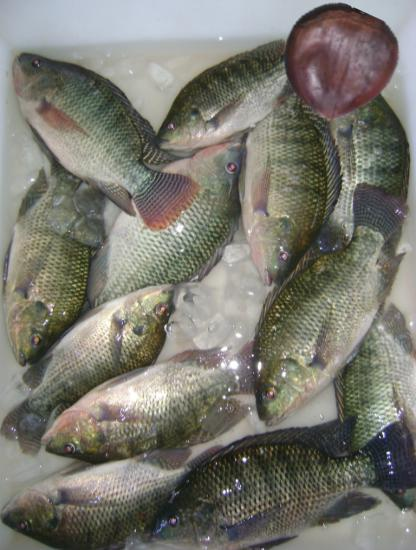Chestnut: (279, 5, 396, 122)
